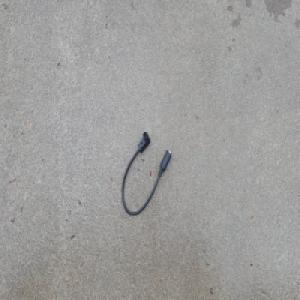Wire: (121, 129, 172, 217)
